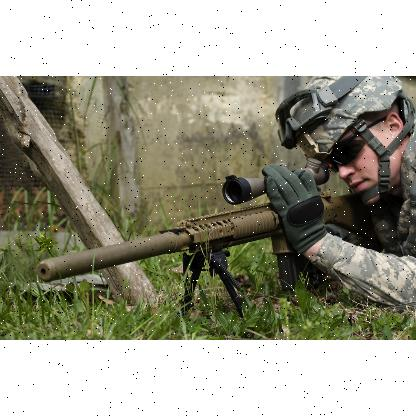gun: (36, 158, 374, 316)
